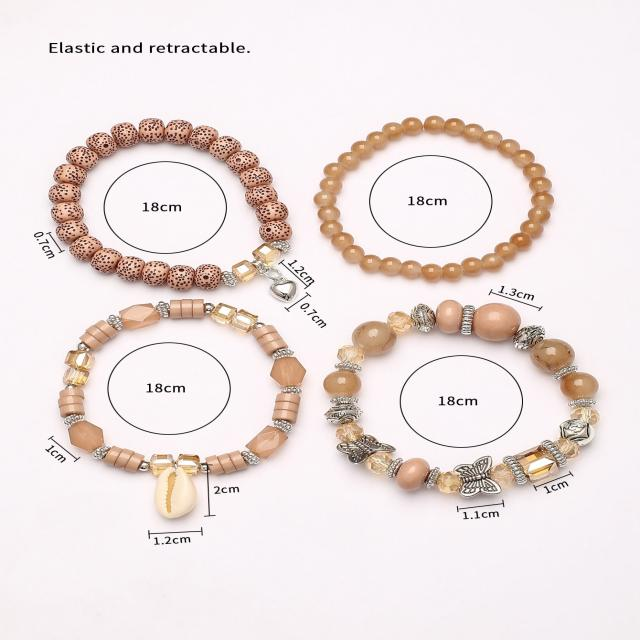bracelet: (24, 287, 356, 548), (315, 288, 640, 529), (290, 78, 632, 285), (18, 79, 328, 302)
